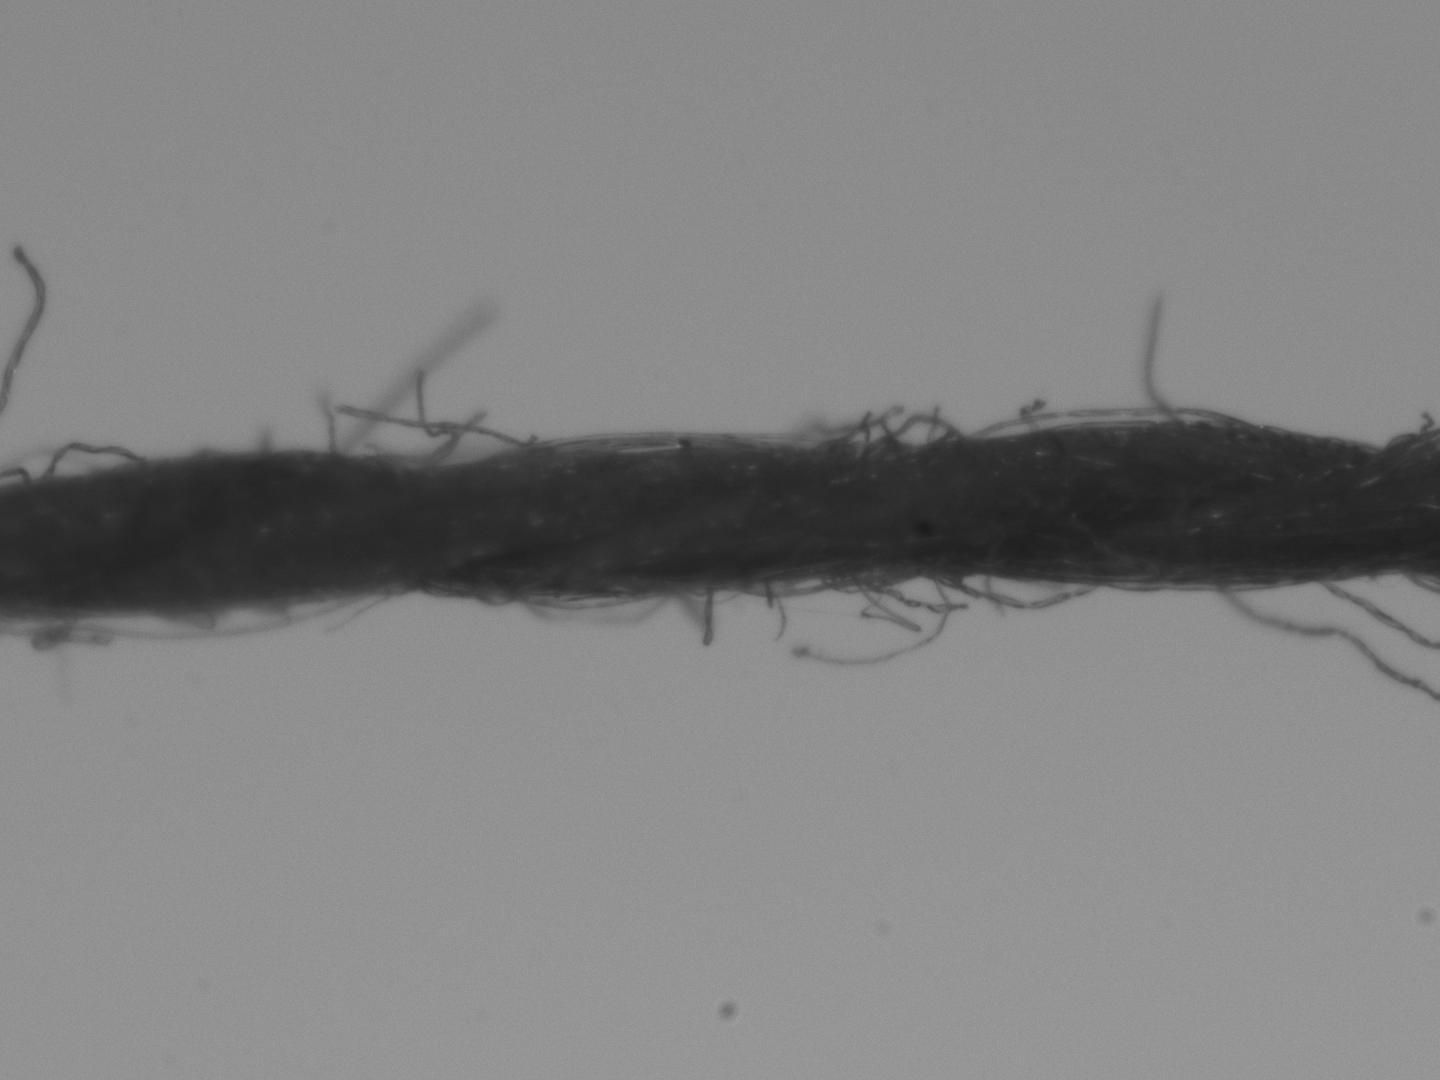loop_fiber: (9, 588, 370, 642), (976, 404, 1233, 437), (932, 569, 1092, 609), (516, 591, 666, 626), (36, 441, 141, 480), (734, 568, 865, 598), (881, 410, 964, 448), (547, 433, 712, 453)
protruding_fiber: (790, 580, 952, 667), (1143, 297, 1170, 417), (698, 581, 721, 650), (319, 394, 340, 449)
